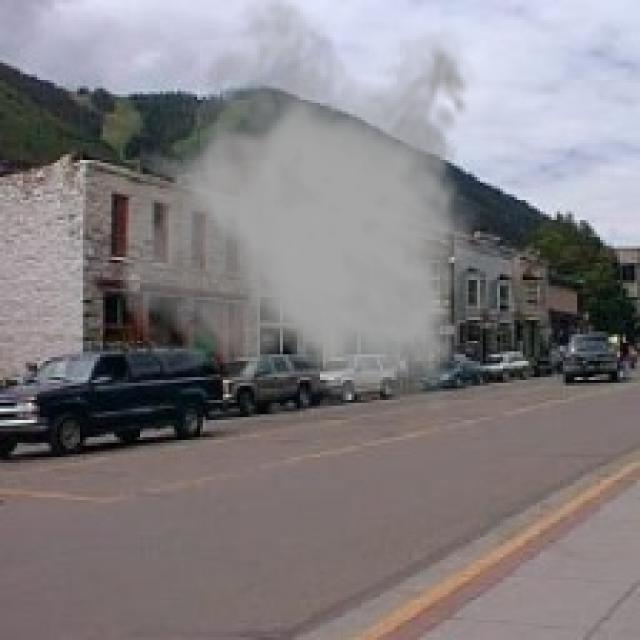Smoke: (114, 0, 480, 415)
